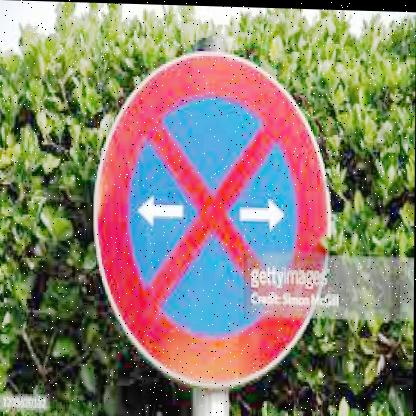No stopping: (92, 46, 333, 389)
